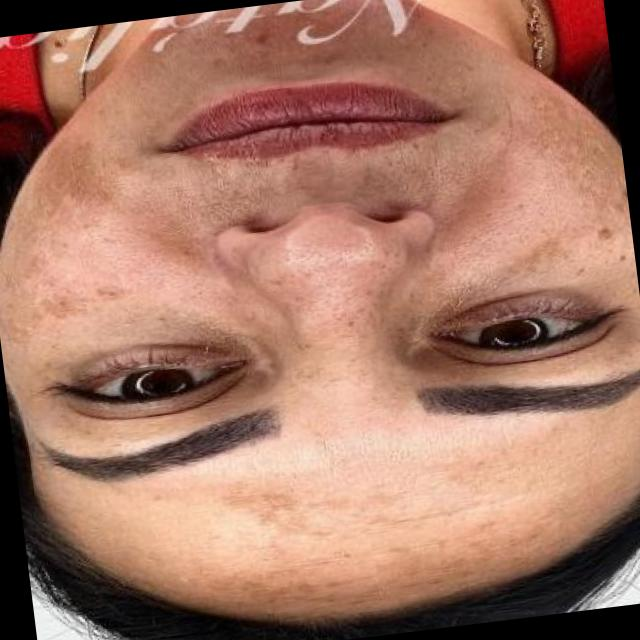melasma: (69, 432, 636, 625), (0, 109, 273, 356), (426, 80, 639, 319), (111, 0, 523, 112)
